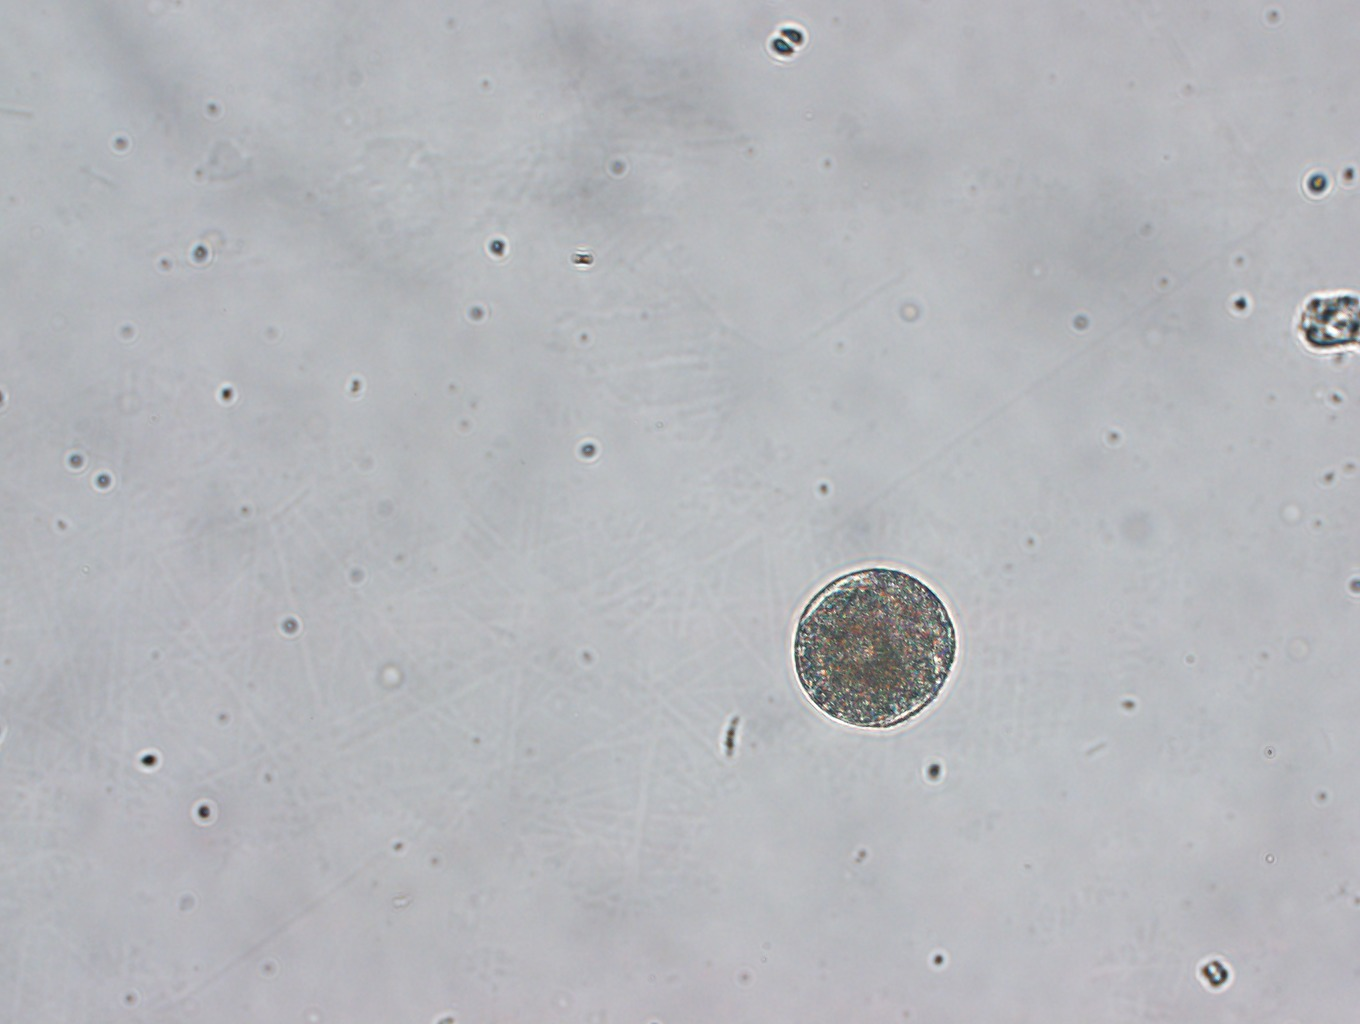coscinodiscus: (787, 557, 964, 737)
